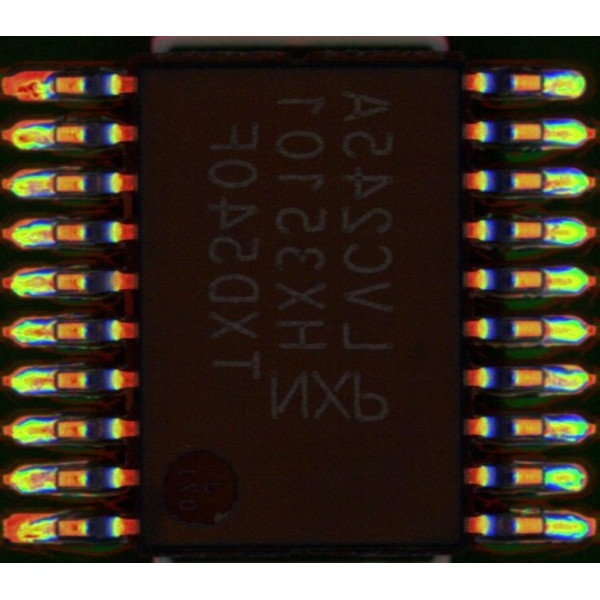Bad_podu: (34, 324, 77, 338), (525, 275, 566, 288), (35, 472, 72, 485), (529, 224, 566, 237), (530, 176, 567, 189), (527, 323, 563, 336), (37, 226, 70, 240), (33, 276, 71, 288), (40, 424, 73, 437), (36, 130, 67, 143), (40, 523, 70, 536), (526, 127, 561, 138), (531, 519, 563, 531), (530, 423, 564, 434), (39, 376, 70, 388), (41, 178, 70, 190), (535, 373, 562, 384)
